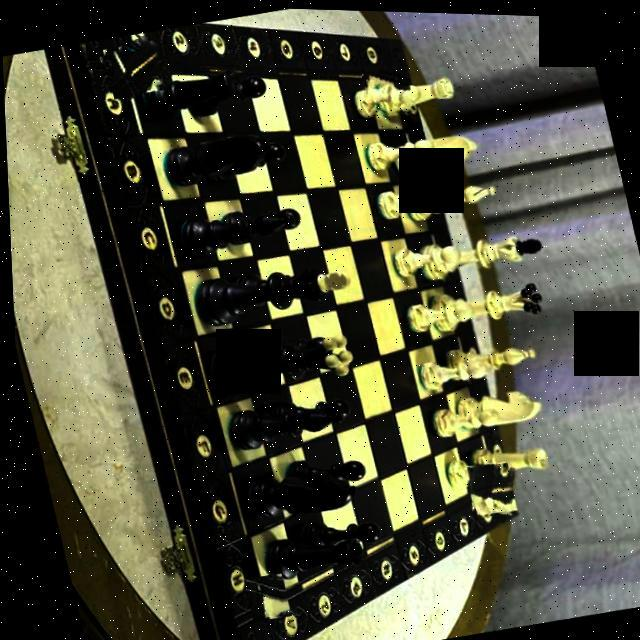chess-table-corners: (98, 34, 170, 103), (458, 457, 516, 518), (360, 63, 416, 118), (237, 570, 285, 622)
